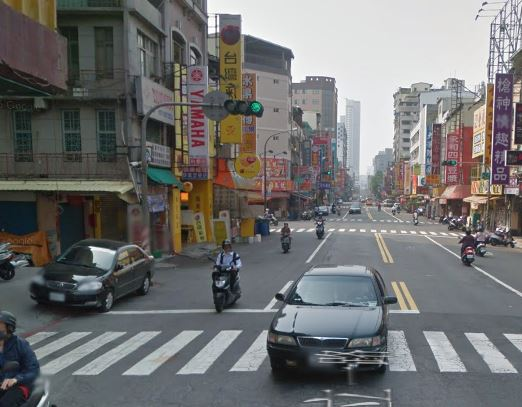Traffic_light_green: (225, 99, 267, 117)
car: (266, 256, 402, 388), (31, 236, 158, 313)
motorcycle: (206, 257, 245, 312)
